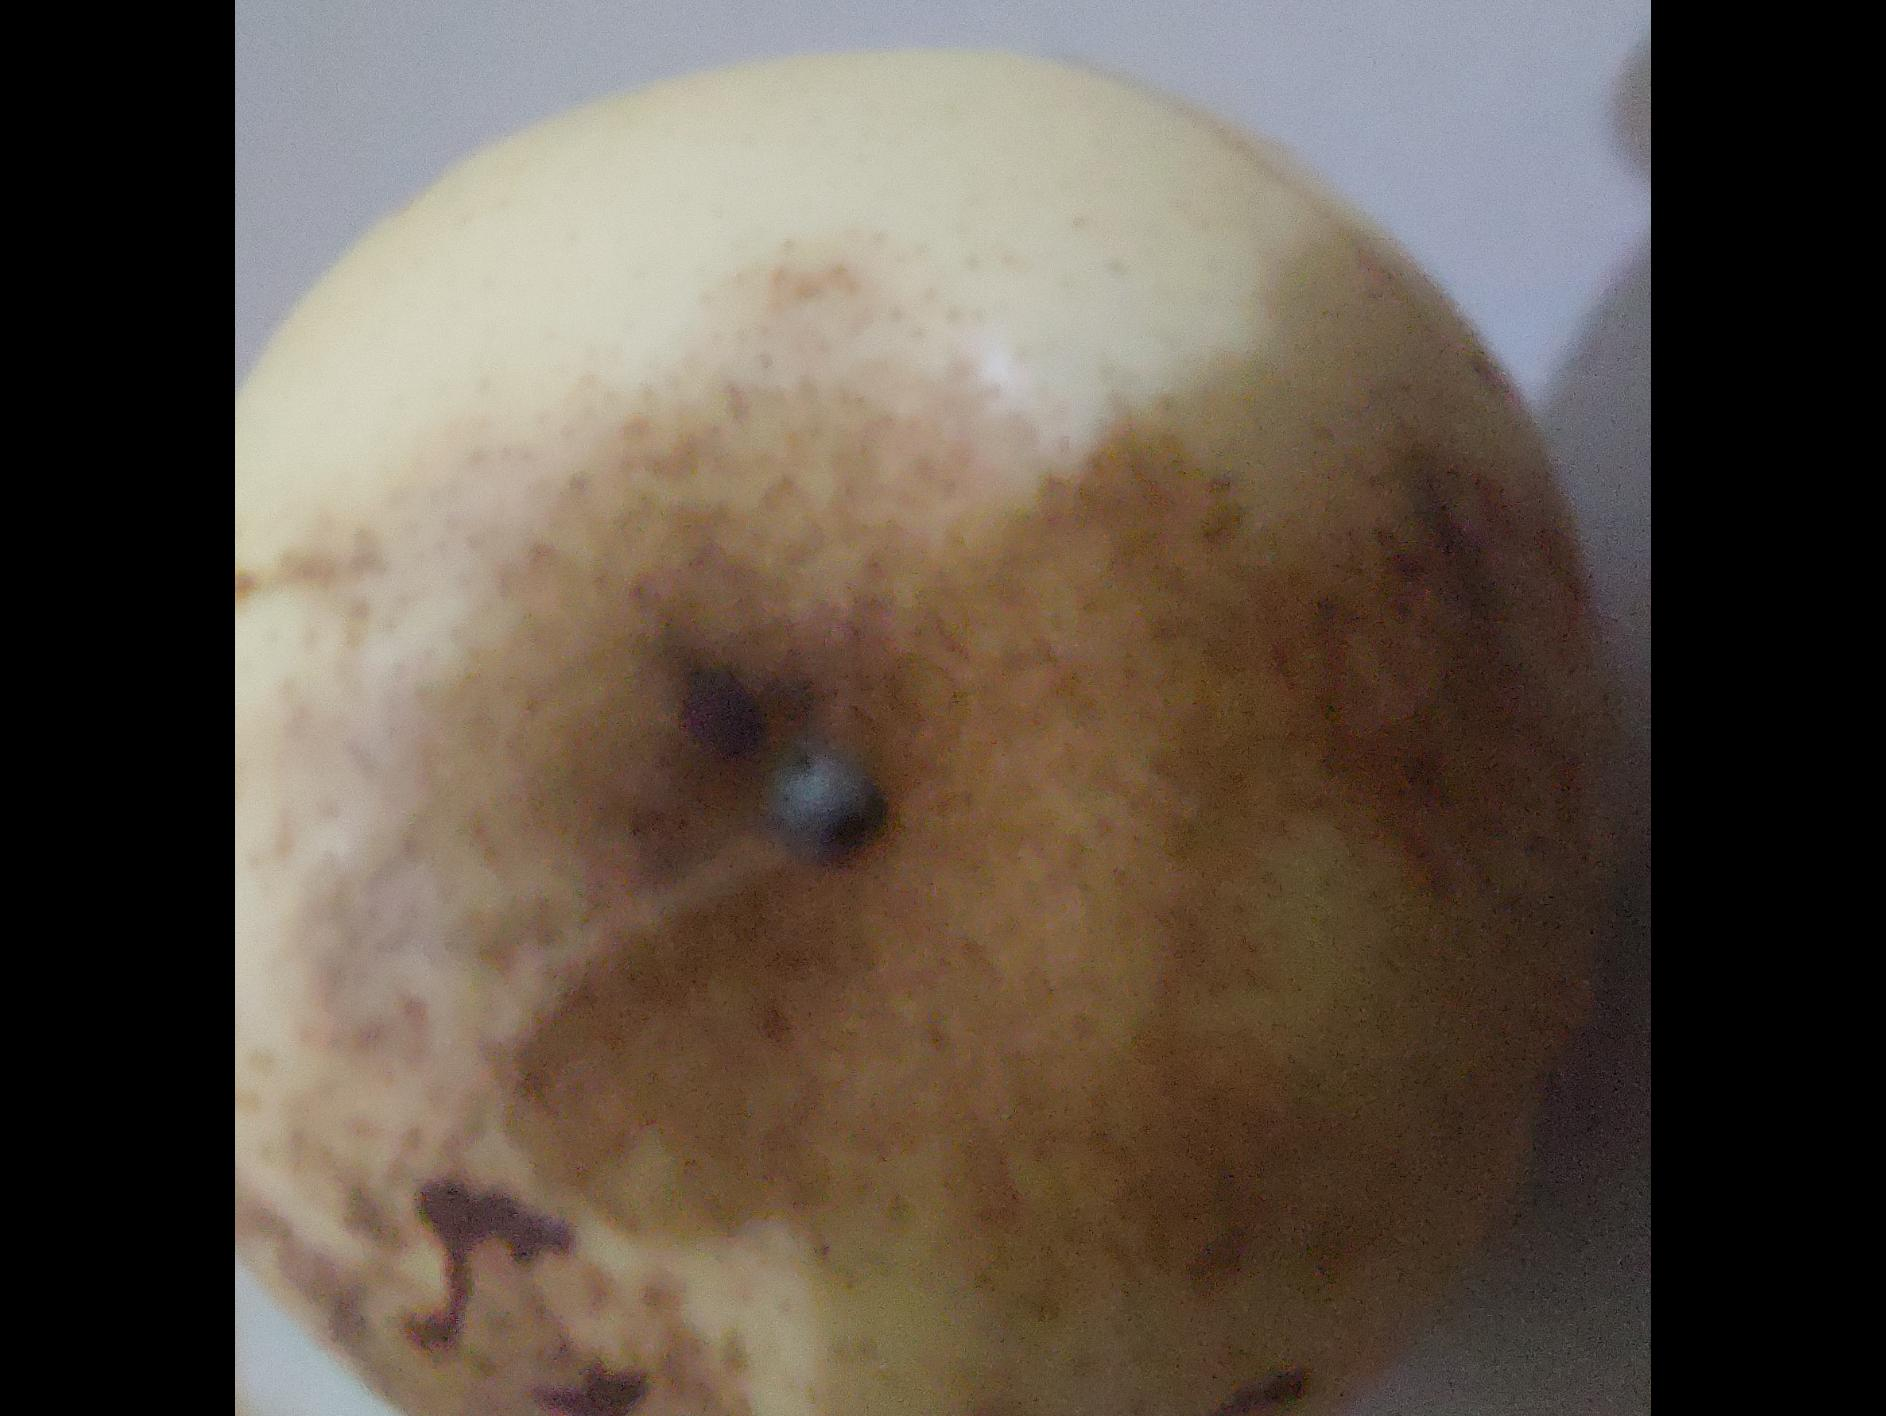Bad Pear: (235, 42, 1603, 1416)
